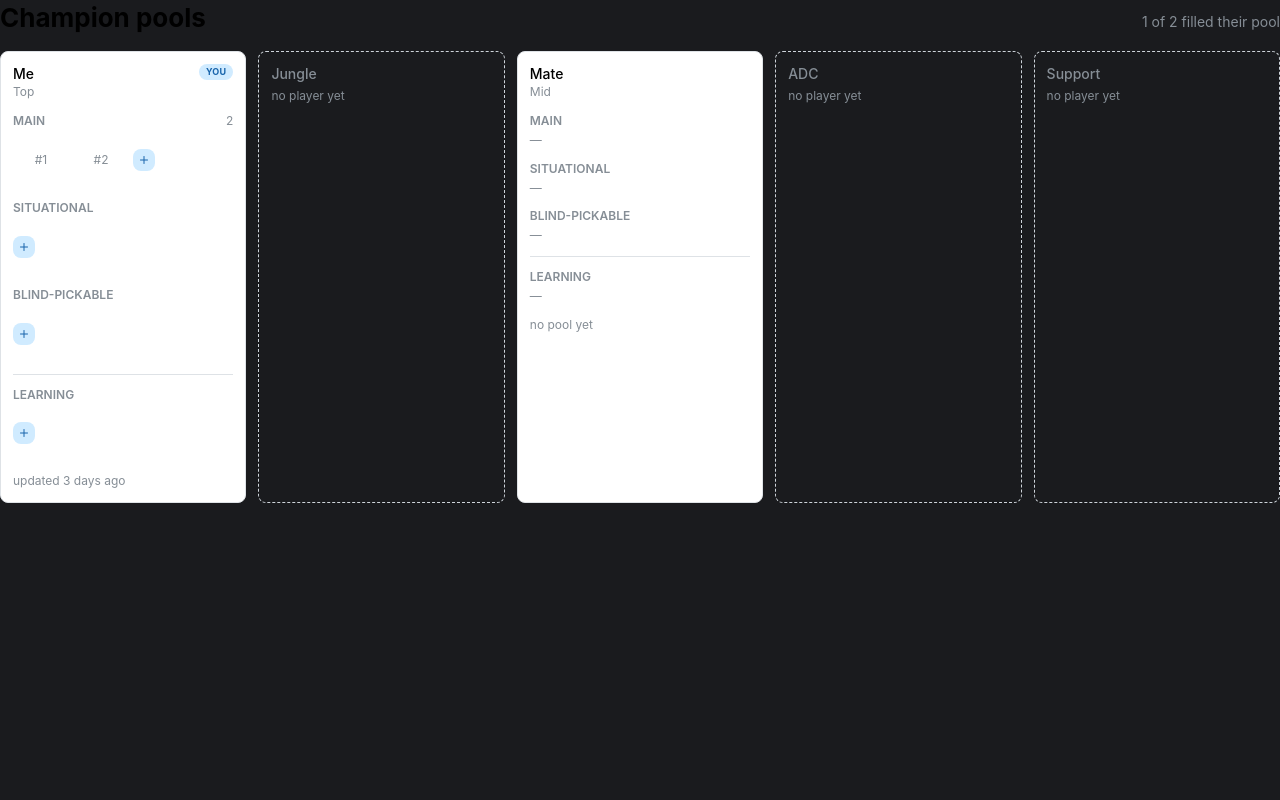
Test case: editing your own column › the + opens a one-column popover list that searches, and the pick lands in the draft
Later steps or results of the test are not shown.
Click the button named "Add a champion to Main". click: (144, 160)
box: [133, 149, 155, 171]
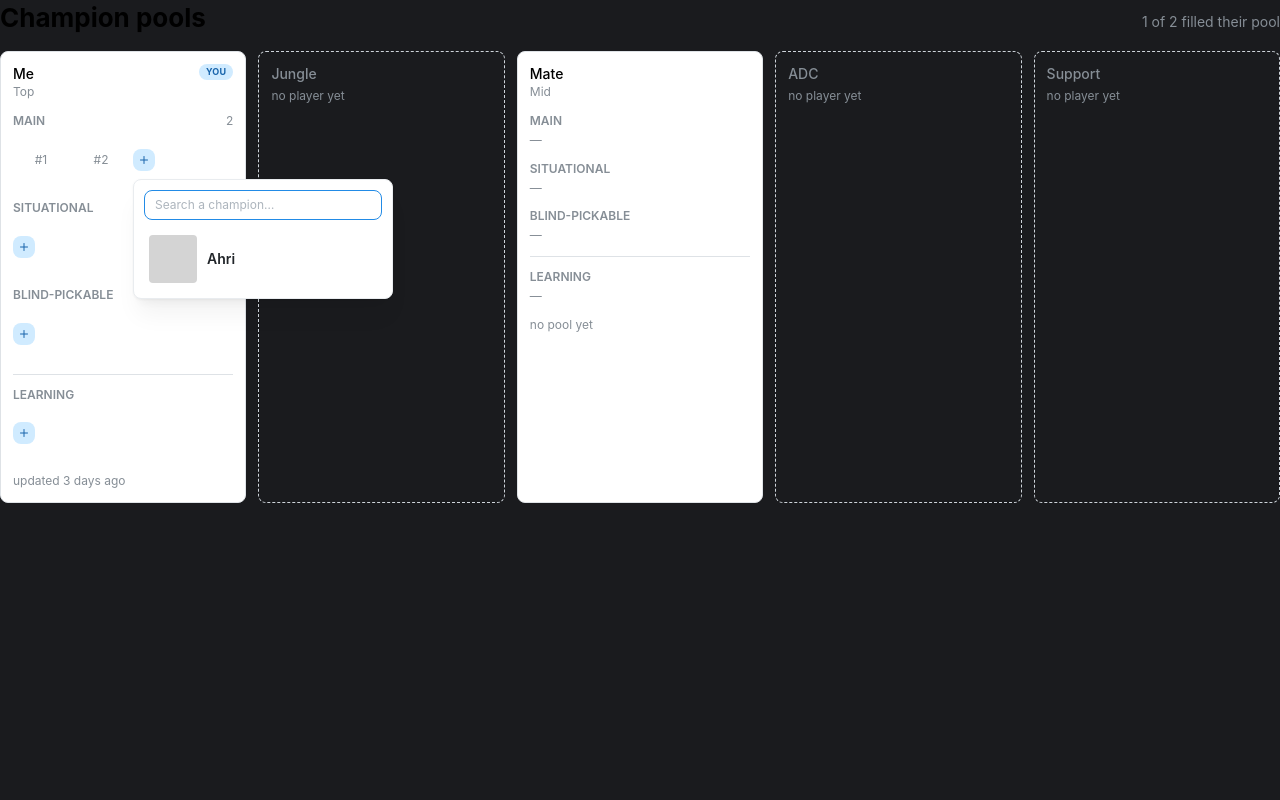
Result: the field with placeholder "Search a champion…" is shown at [144, 190, 382, 220]
